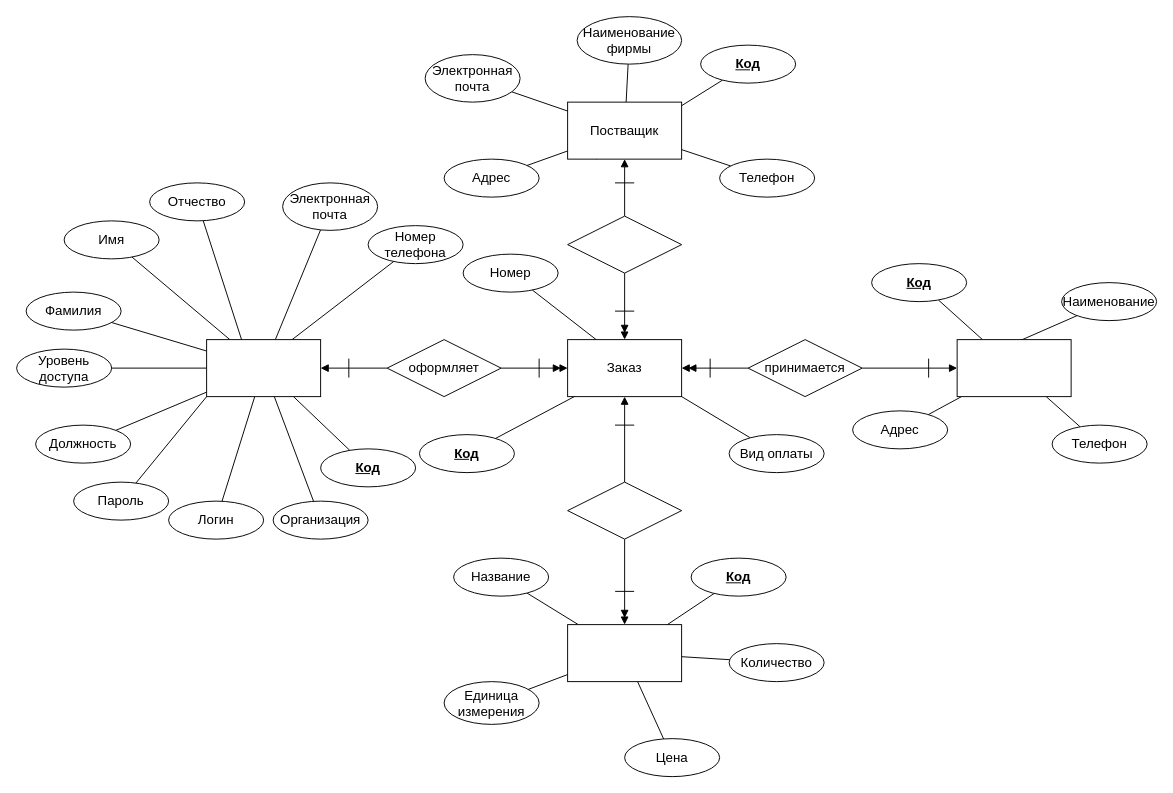
This 1173x793 diagram has some shape labels left out. The shapes that lost their labels are listed below. From the top down, each one's box as (x1, y1, x2, y2) in pixels, then its label:
(567, 215, 682, 273): доставляет
(206, 339, 321, 397): Сотрудник
(956, 339, 1071, 397): Склад
(567, 481, 682, 539): включает
(567, 624, 682, 682): Товар
